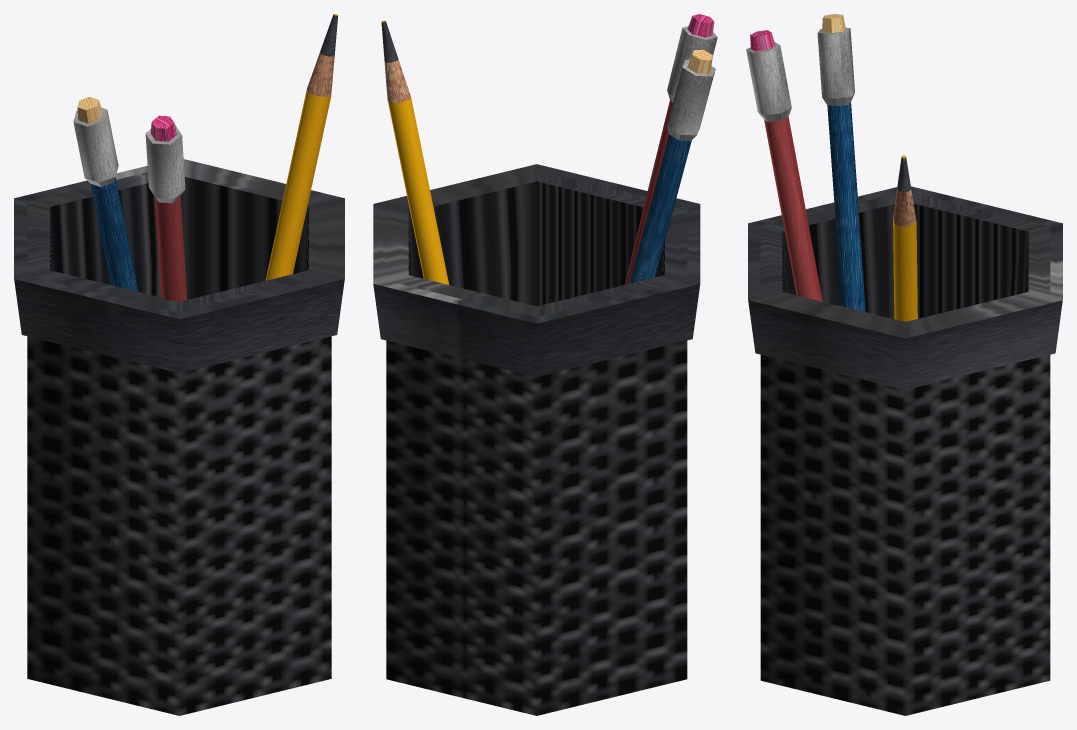
The model's file is pencil box.FBX.
3 renders of one model, left to right at view 1: azimuth 30°, elevation 25°; view 2: azimuth 150°, elevation 25°; view 3: azimuth 270°, elevation 25°, orthographic. The views are drawn at different scales.
Parts seen in each view (by area): view 1: Cylinder001, Object001, Cylinder004, Cylinder003, Cylinder002, Object008, Object004, Object010, Object005, Object009; view 2: Cylinder001, Object001, Cylinder004, Cylinder003, Object008, Object004, Cylinder002, Object010; view 3: Cylinder001, Object001, Cylinder003, Cylinder002, Object004, Object008, Cylinder004, Object010.
Part boxes in pixels (x1,y1,x2,y2): Cylinder001: (27,177,331,715); Object001: (14,159,344,373); Cylinder004: (265,14,337,280); Cylinder003: (91,178,138,291); Cylinder002: (154,197,187,301); Object008: (73,107,118,186); Object004: (145,125,185,203); Object010: (307,52,334,97); Object005: (150,115,176,141); Object009: (77,96,102,123); Cylinder001: (386,181,687,715); Object001: (373,164,700,376); Cylinder004: (381,20,449,284); Cylinder003: (629,135,691,283); Object008: (666,59,715,140); Object004: (667,26,717,102); Cylinder002: (624,100,672,284); Object010: (384,60,411,103); Cylinder001: (760,204,1050,715); Object001: (748,186,1062,389); Cylinder003: (827,102,865,311); Cylinder002: (764,117,822,301); Object004: (746,42,791,122); Object008: (817,27,854,106); Cylinder004: (893,155,917,321); Object010: (893,187,916,227).
Bounding box in the file's own units: 45.89 × 79.54 × 39.99.
Materials: 9 (9 with a texture image).
